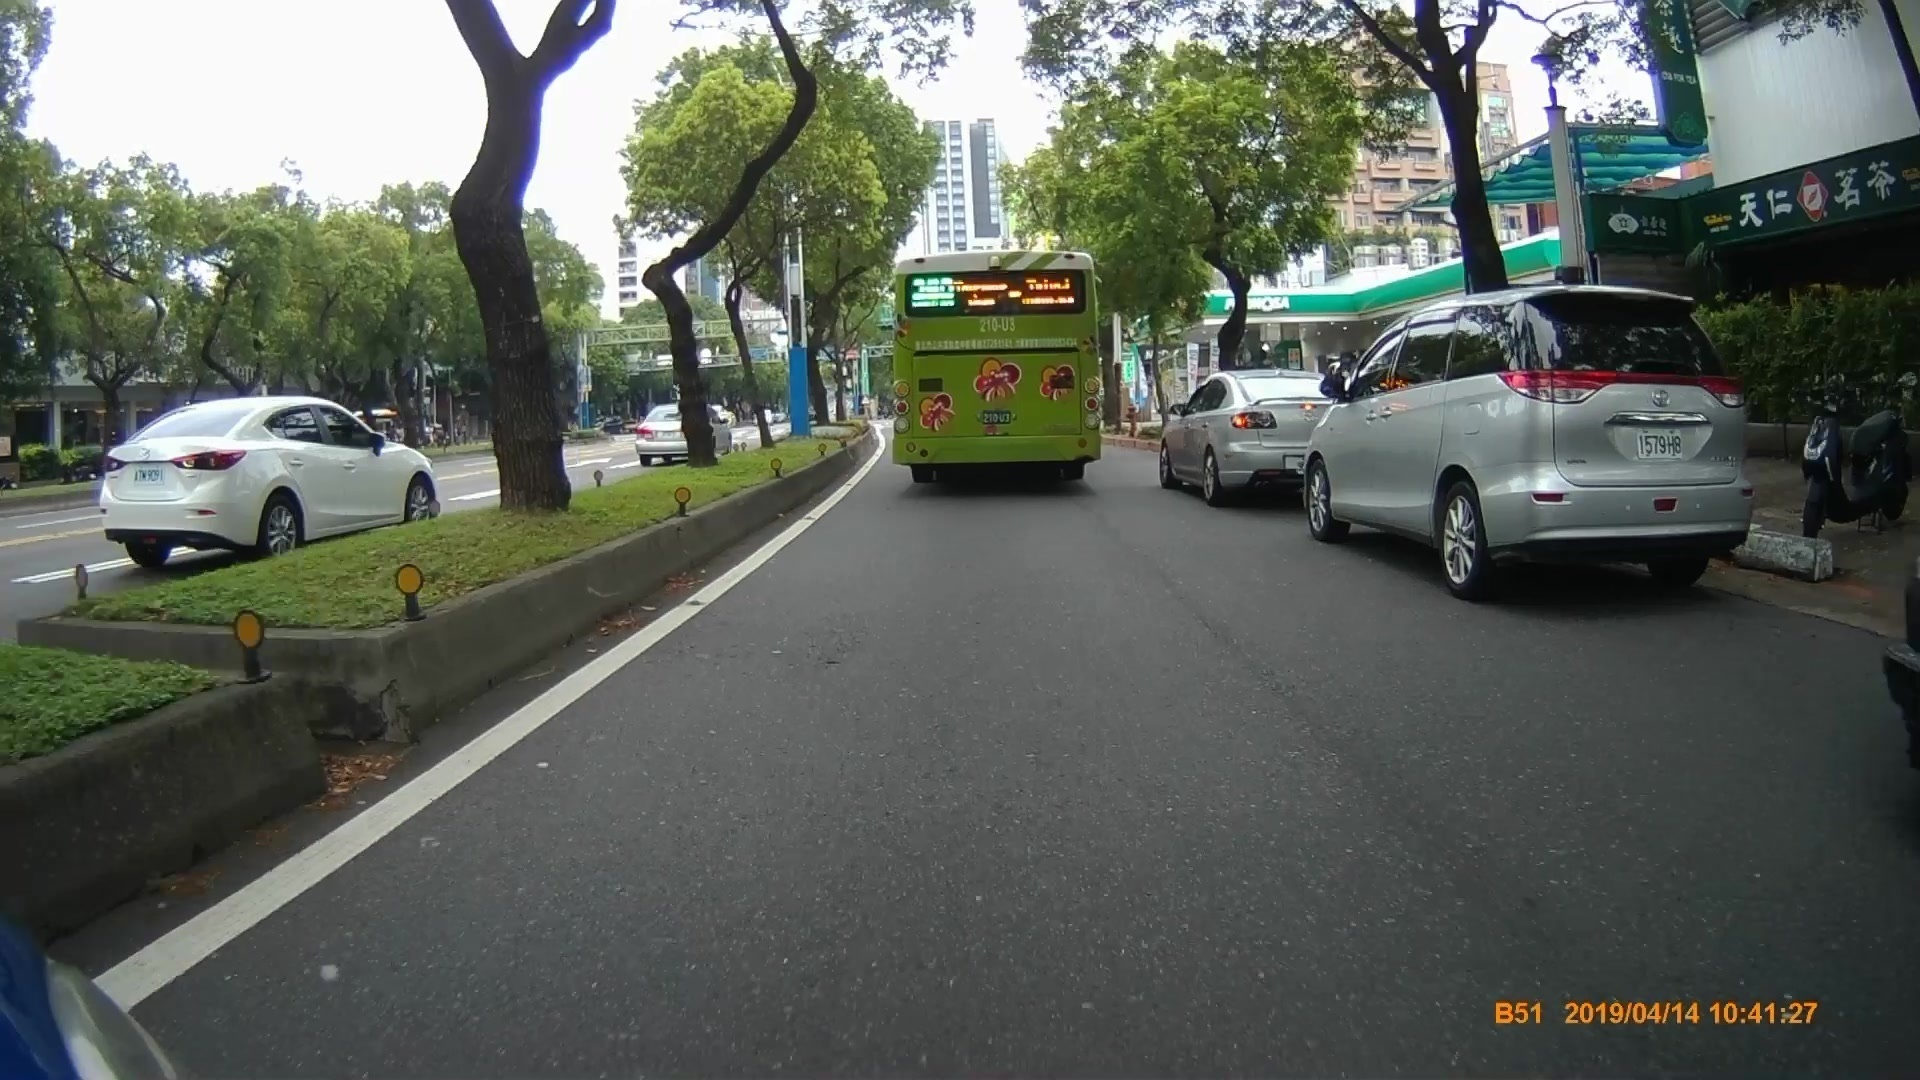License_plate: (1636, 427, 1691, 462)
